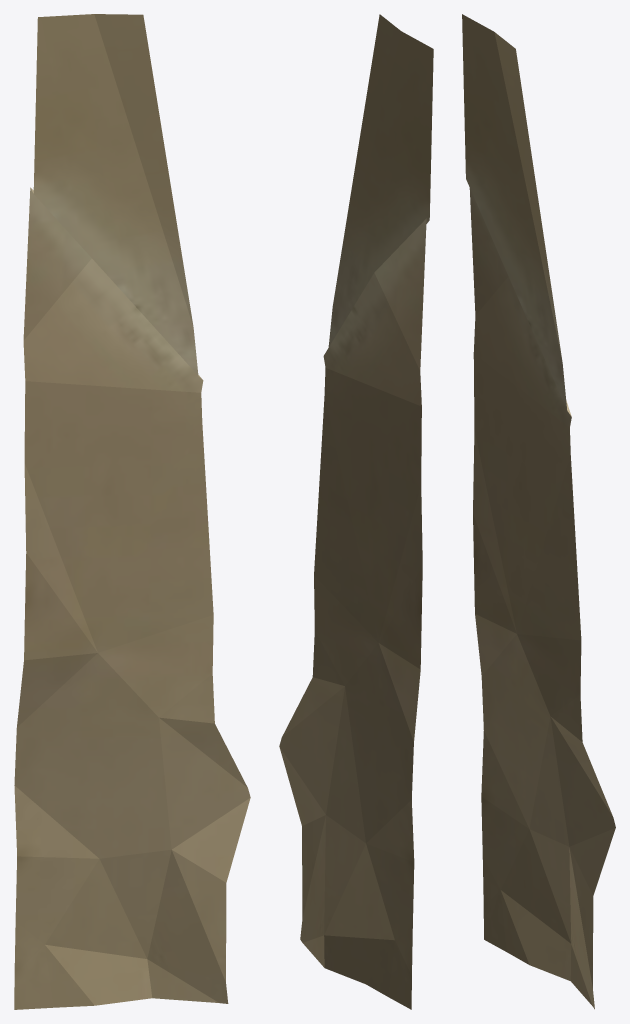
3 renders of one model, left to right at view 1: azimuth 30°, elevation 25°; view 2: azimuth 150°, elevation 25°; view 3: azimuth 330°, elevation 25°, orthographic. The views are drawn at different scales.
Size of the model in its own units: 0.1639 by 0.8374 by 0.0713.
Materials: 1 (1 with a texture image).
